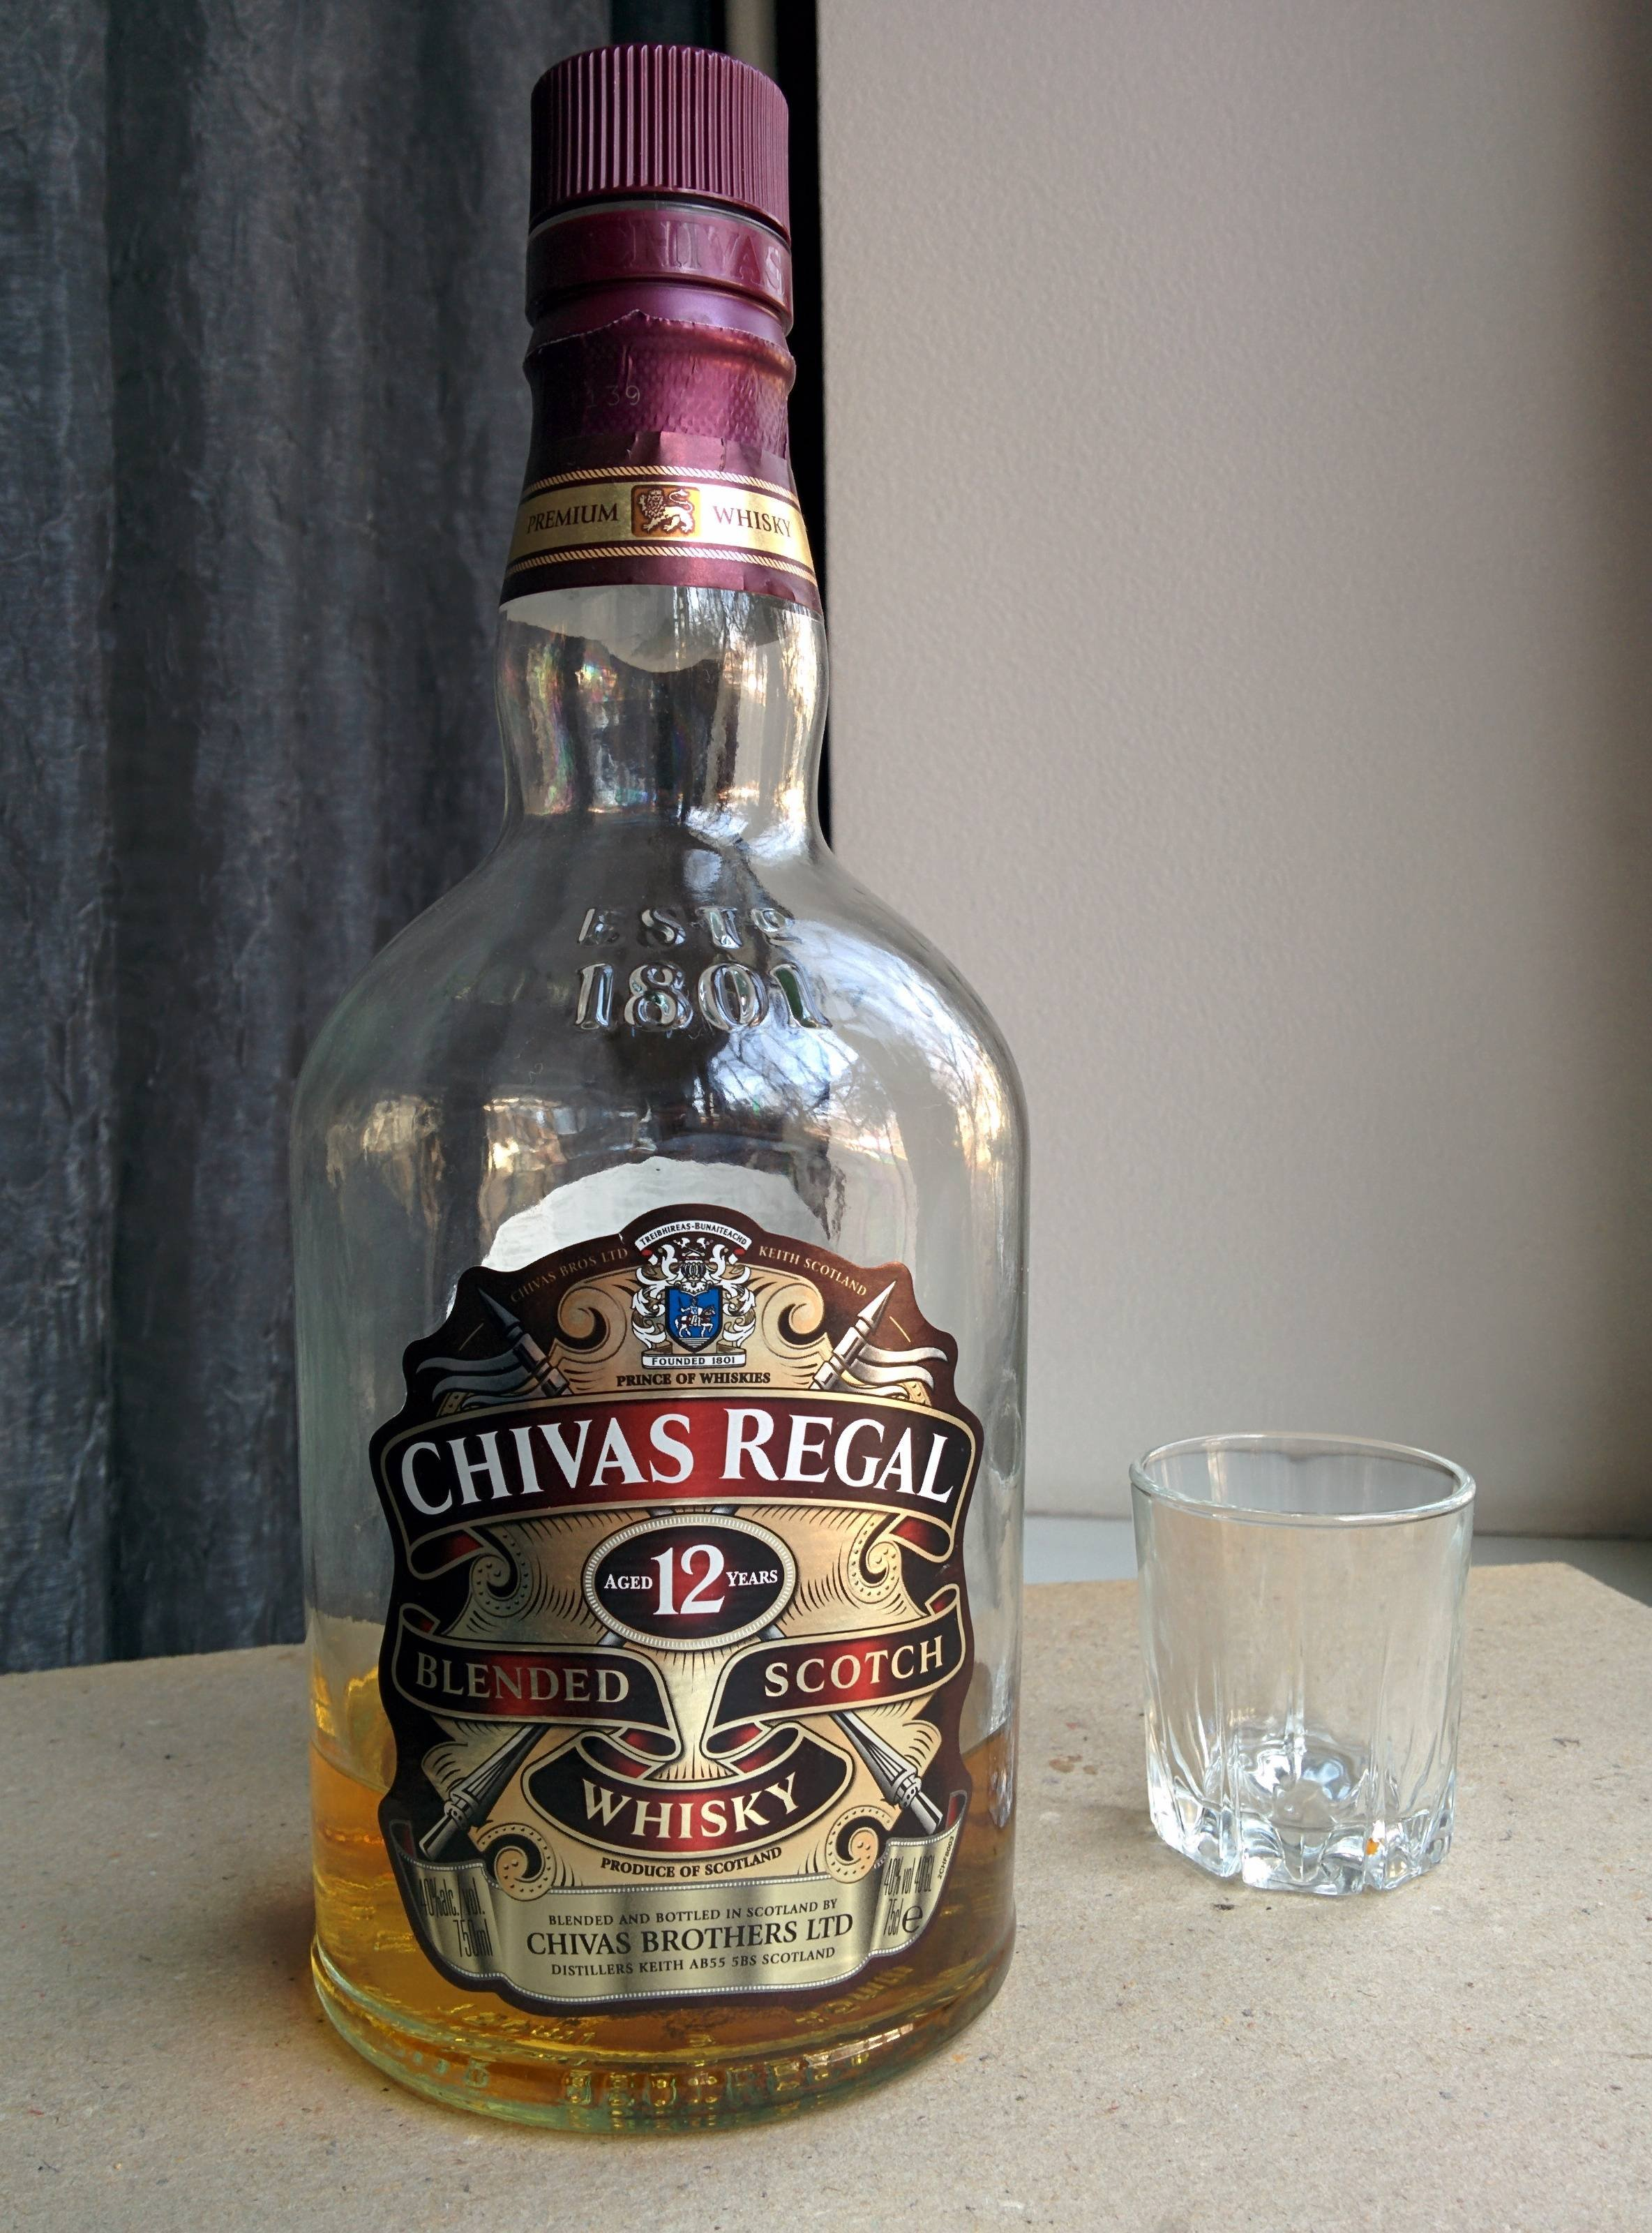Chivas Regal: (260, 36, 1048, 2165)
